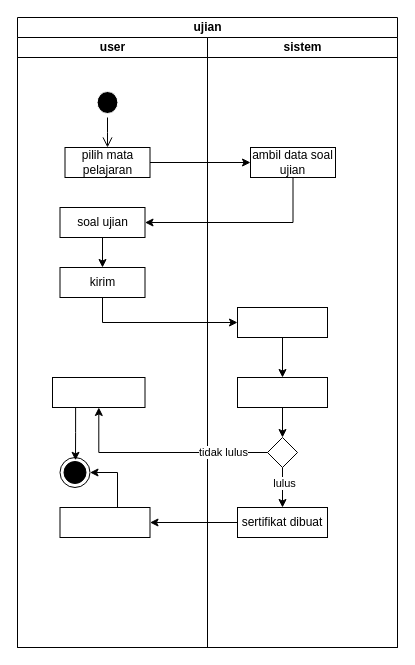
This 415x665 diagram has some shape labels left out. Each missing label, with the centre of its shape:
"data nilai ujian" goes at pixel 98 392.
"data nilai ujian dan sertifikat" goes at pixel 104 522.
"kalkulasi nilai" goes at pixel 282 322.
"menyimpan nilai" goes at pixel 282 392.
